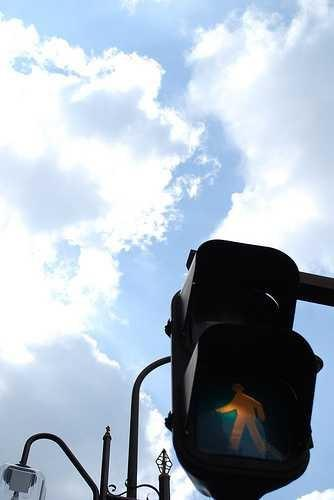green: (175, 328, 319, 479)
